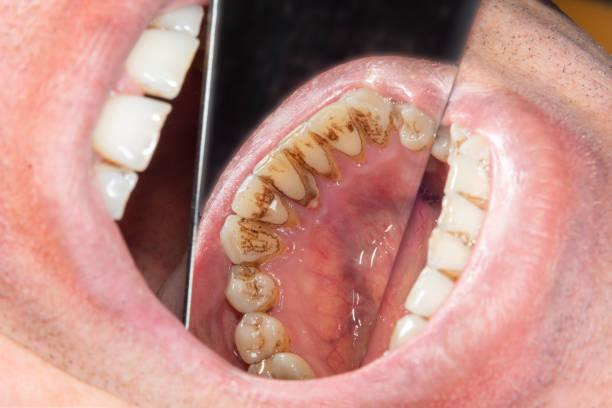Calculus: (212, 261, 288, 315), (286, 122, 347, 187), (227, 175, 299, 227), (262, 153, 328, 209), (220, 217, 287, 262), (354, 86, 397, 148), (234, 311, 290, 356), (320, 108, 369, 156)
